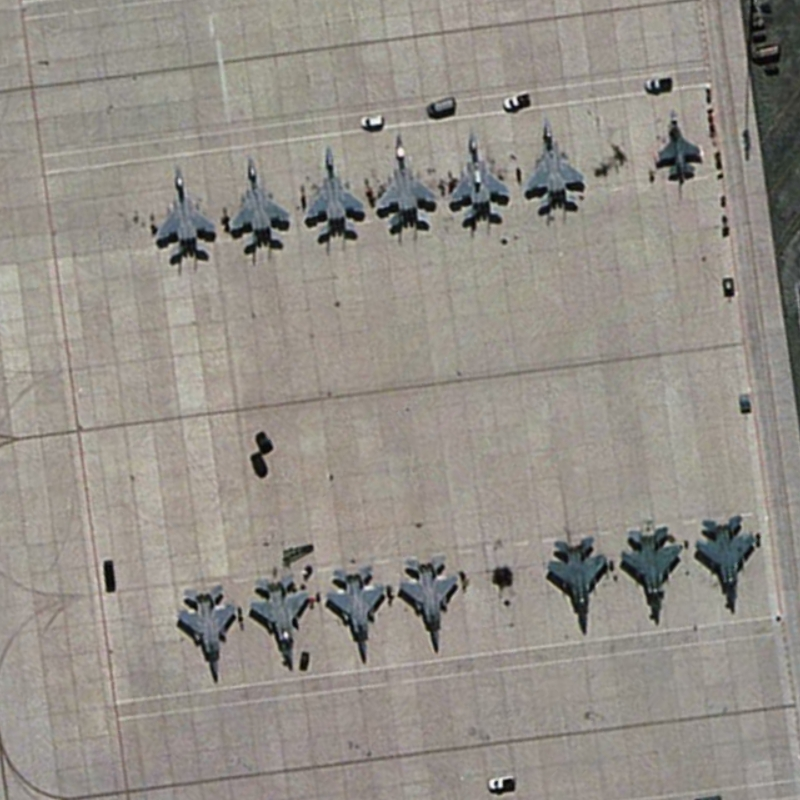A13: (689, 504, 768, 616), (170, 576, 245, 686), (392, 547, 467, 656), (615, 516, 690, 623), (246, 564, 317, 675), (517, 116, 593, 217), (371, 132, 443, 238), (539, 529, 612, 633), (152, 156, 221, 266), (442, 125, 516, 227), (303, 140, 371, 250), (224, 153, 298, 250), (322, 560, 390, 665)
A5: (647, 105, 717, 189)
